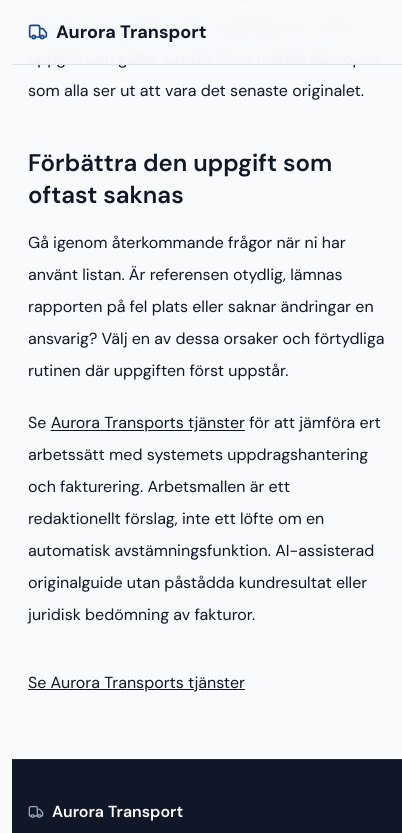
Scenario: keeps editorial body links usable after React takes over the prerendered page
(page scrolled)
Click the link "Aurora Transports tjänster" at (148, 422), box [51,412,245,432]
(page scrolled)
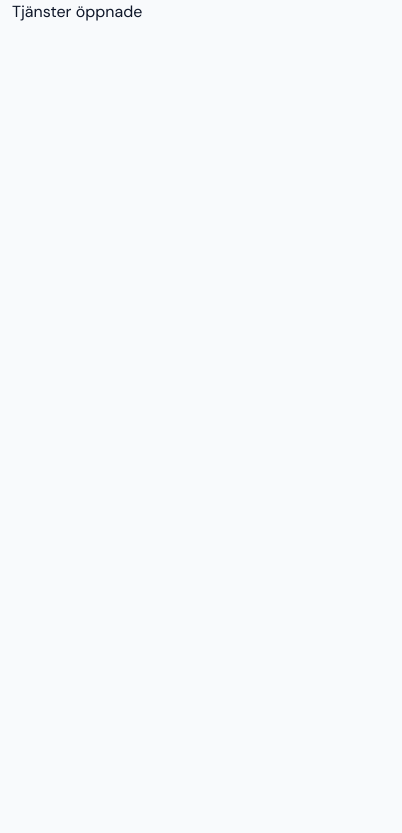
Result: the heading "Tjänster öppnade" is shown at [12,1,142,22]
